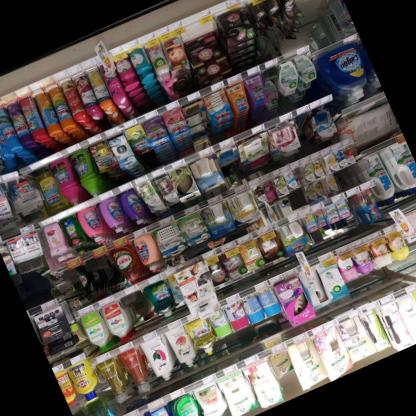empty_space: (331, 160, 365, 190)
